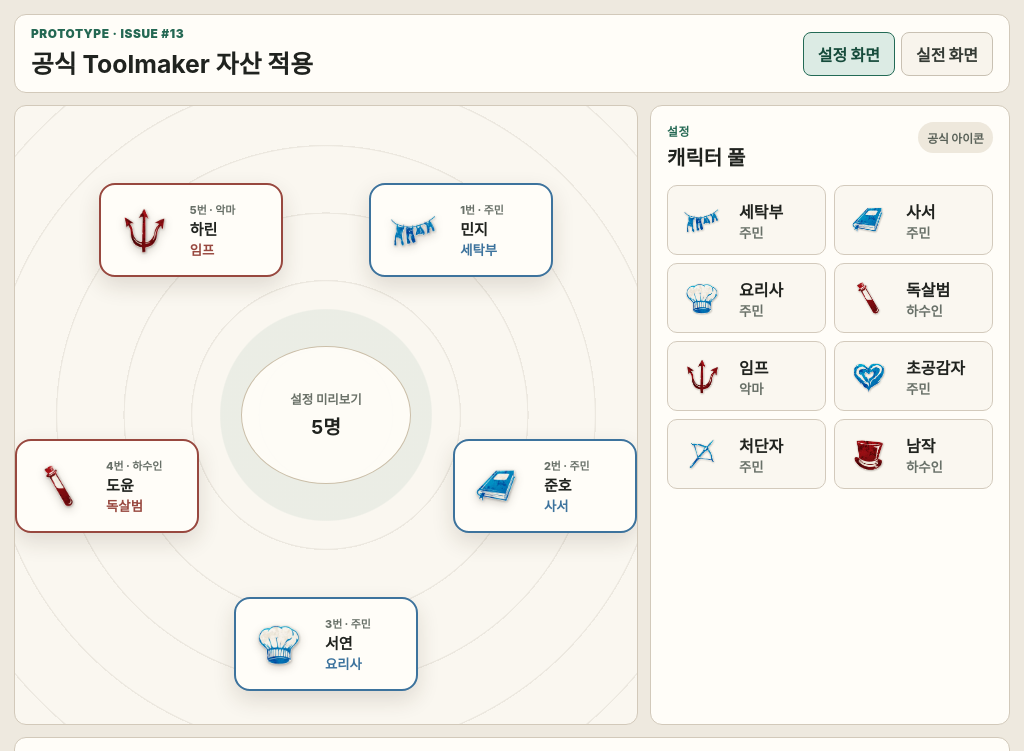
compares official icons in setup and live-play surfaces
The width and height of the screenshot is (1024, 751).
Expected: the heading "캐릭터 풀" is shown, left=667, top=142, right=745, bottom=171
Click the button "실전 화면" at (947, 54), box left=901, top=32, right=993, bottom=76
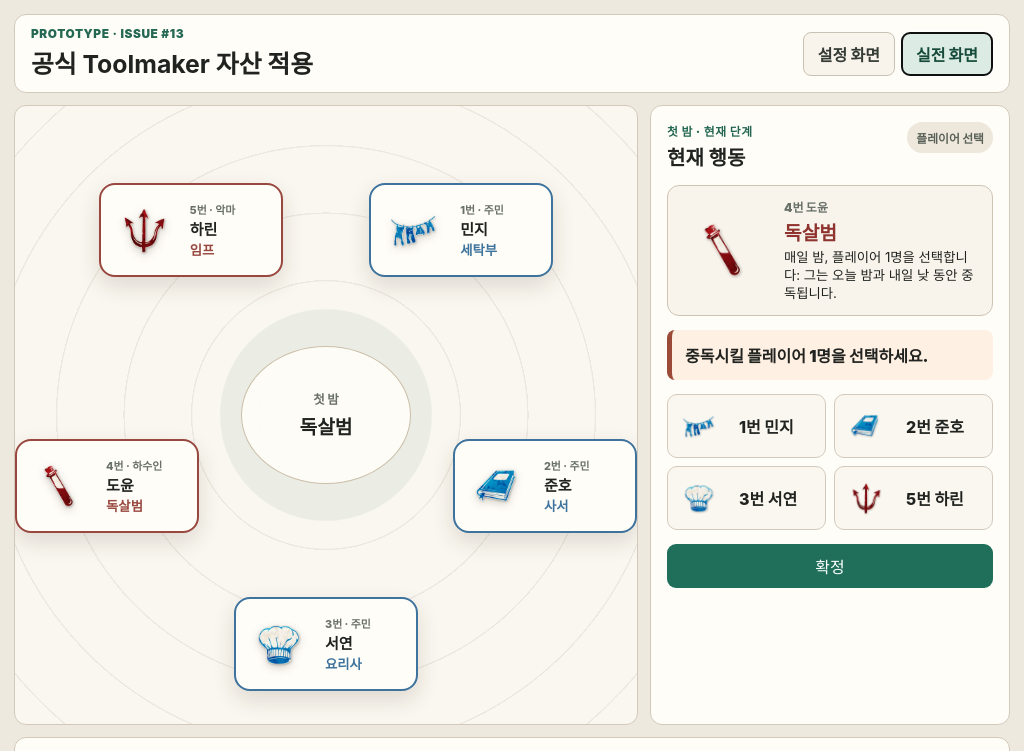
Now the heading "현재 행동" is shown, box left=667, top=142, right=753, bottom=171
Now the picture named "독살범 공식 캐릭터 아이콘" next to "4번 도윤" is shown, box left=680, top=206, right=768, bottom=294
Now the heading "캐릭터 풀" is gone
